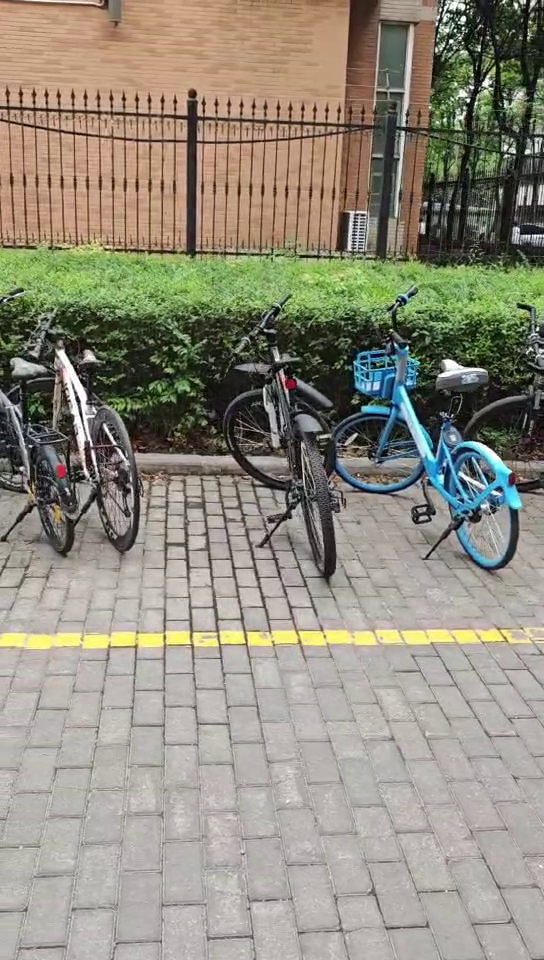others: (202, 281, 342, 579), (39, 304, 158, 557), (3, 303, 74, 558)
shared_bike_haluo: (337, 284, 518, 593)
